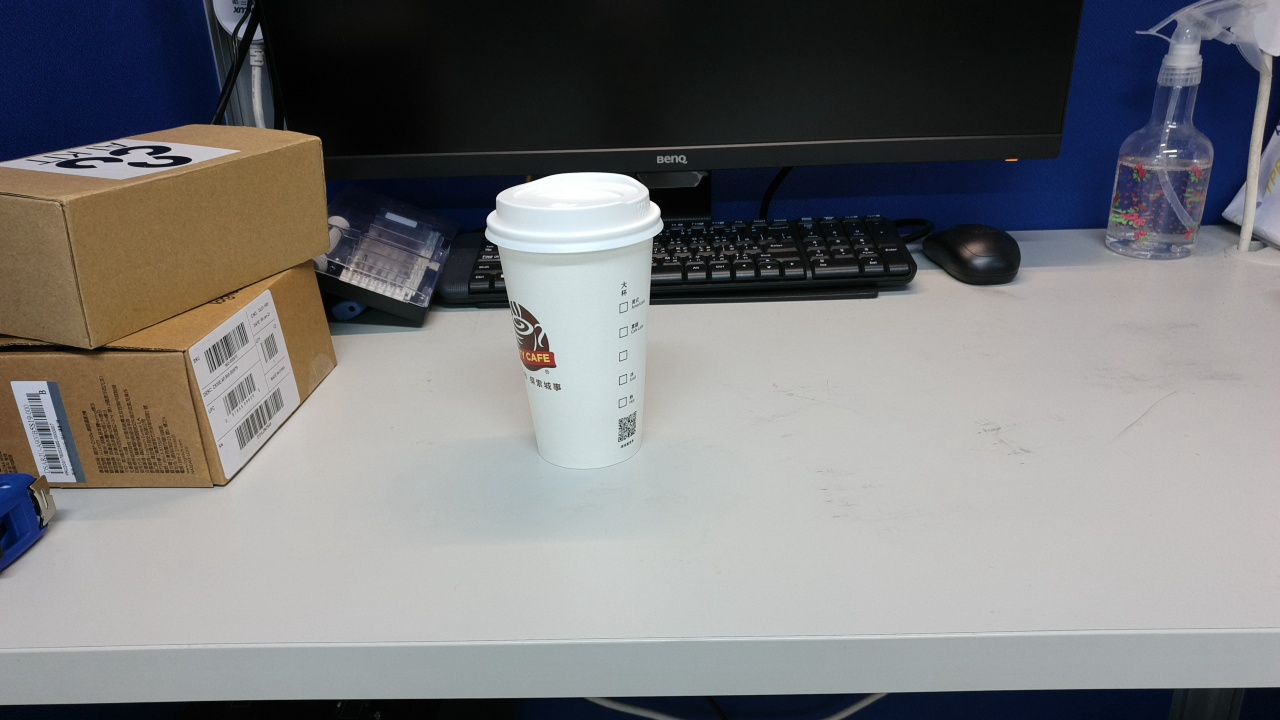long: (613, 477, 747, 693)
